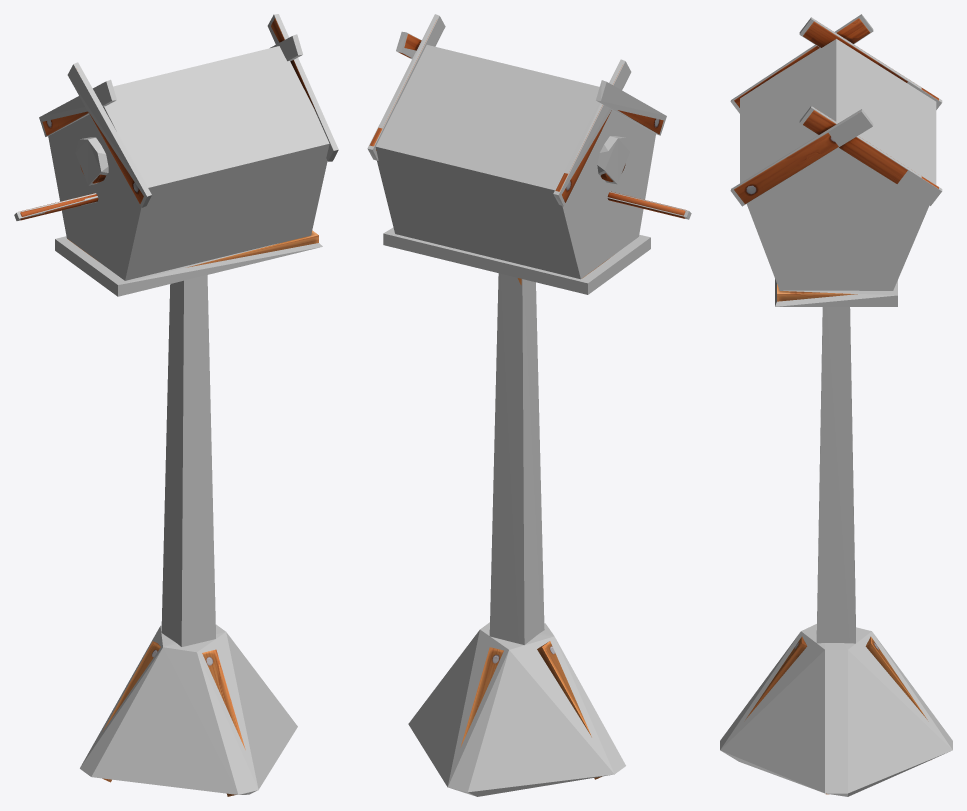
The model's file is SM_BirdsHouse01.fbx.
The picture shows the model from 3 angles, left to right: view 1: azimuth 30°, elevation 25°; view 2: azimuth 150°, elevation 25°; view 3: azimuth 270°, elevation 25°; orthographic projection. The views are drawn at different scales.
Parts seen in each view (by area): view 1: SM_BirdsHouse01_ConvexHulls, SM_BirdsHouse01; view 2: SM_BirdsHouse01_ConvexHulls, SM_BirdsHouse01; view 3: SM_BirdsHouse01_ConvexHulls, SM_BirdsHouse01.
Part boxes in pixels (x1,y1,x2,y2): SM_BirdsHouse01_ConvexHulls: [14, 14, 338, 794]; SM_BirdsHouse01: [20, 18, 318, 796]; SM_BirdsHouse01_ConvexHulls: [367, 14, 691, 796]; SM_BirdsHouse01: [369, 20, 686, 779]; SM_BirdsHouse01_ConvexHulls: [720, 14, 952, 796]; SM_BirdsHouse01: [734, 18, 938, 794].
Size of the model in its own units: 76.83 by 57.65 by 191.
Materials: 2 (1 with a texture image).
